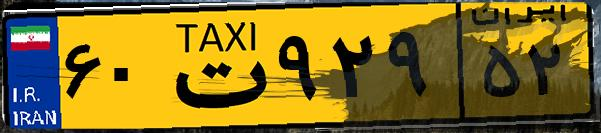0: (110, 28, 158, 98)
2: (330, 28, 385, 110), (525, 38, 570, 115)
5: (475, 38, 525, 113)
6: (57, 26, 110, 100)
9: (270, 28, 330, 110), (385, 28, 445, 110)
ت: (158, 12, 270, 120)
